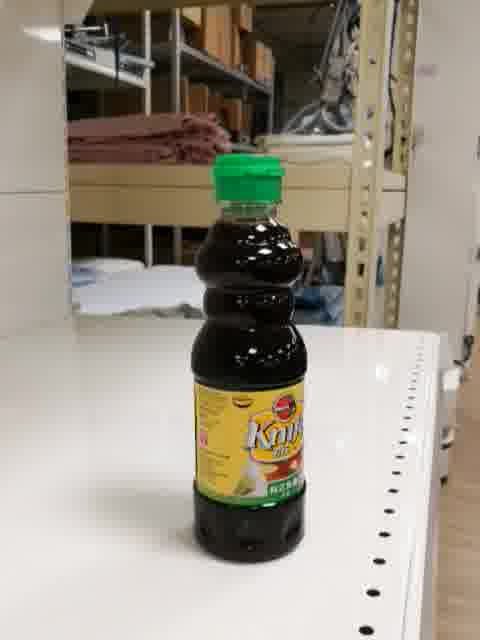cookingoil: (186, 153, 309, 566)
